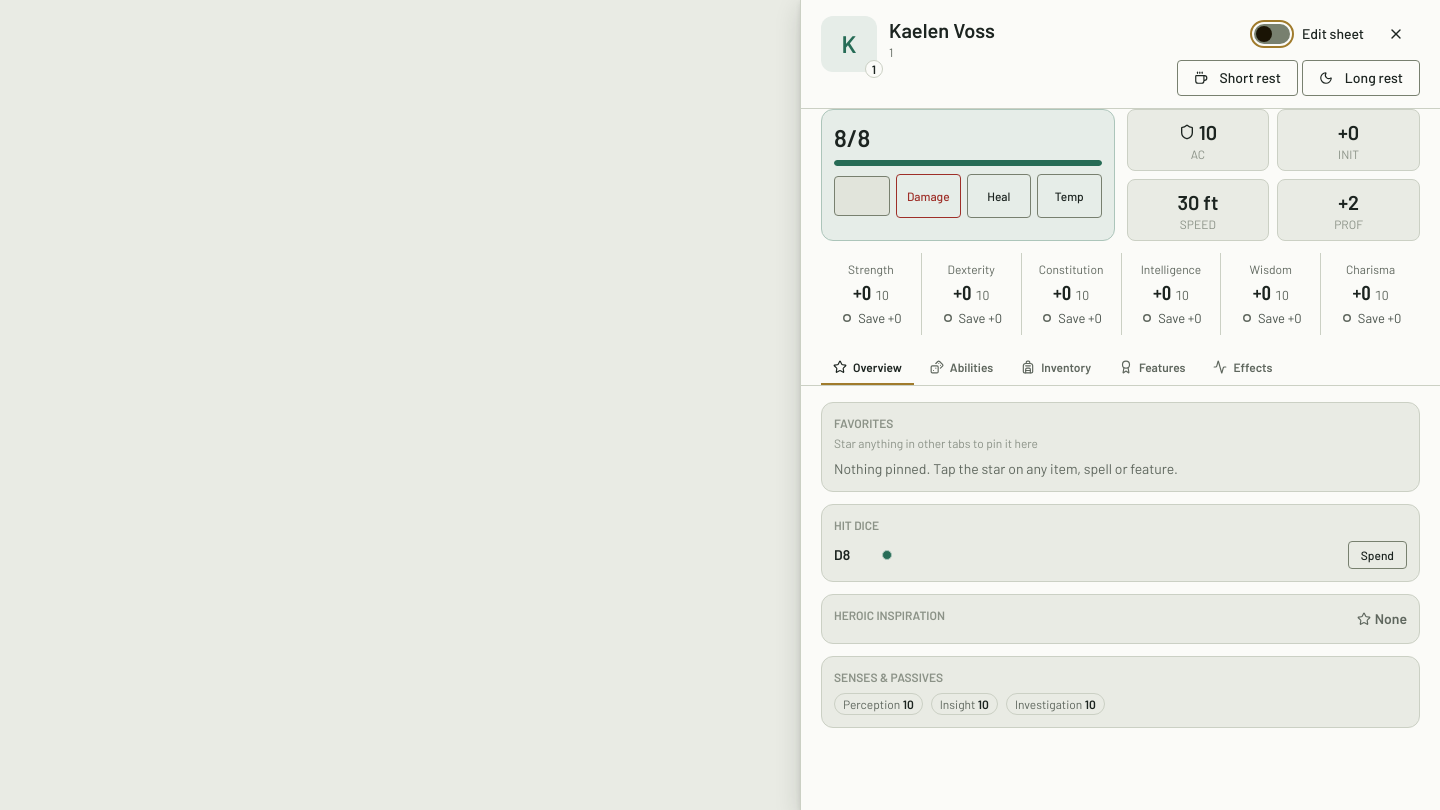
SheetDrawer › renders every tab panel
Press the mouse on the tab "Abilities" at (962, 368), box 918,352 -> 1005,386
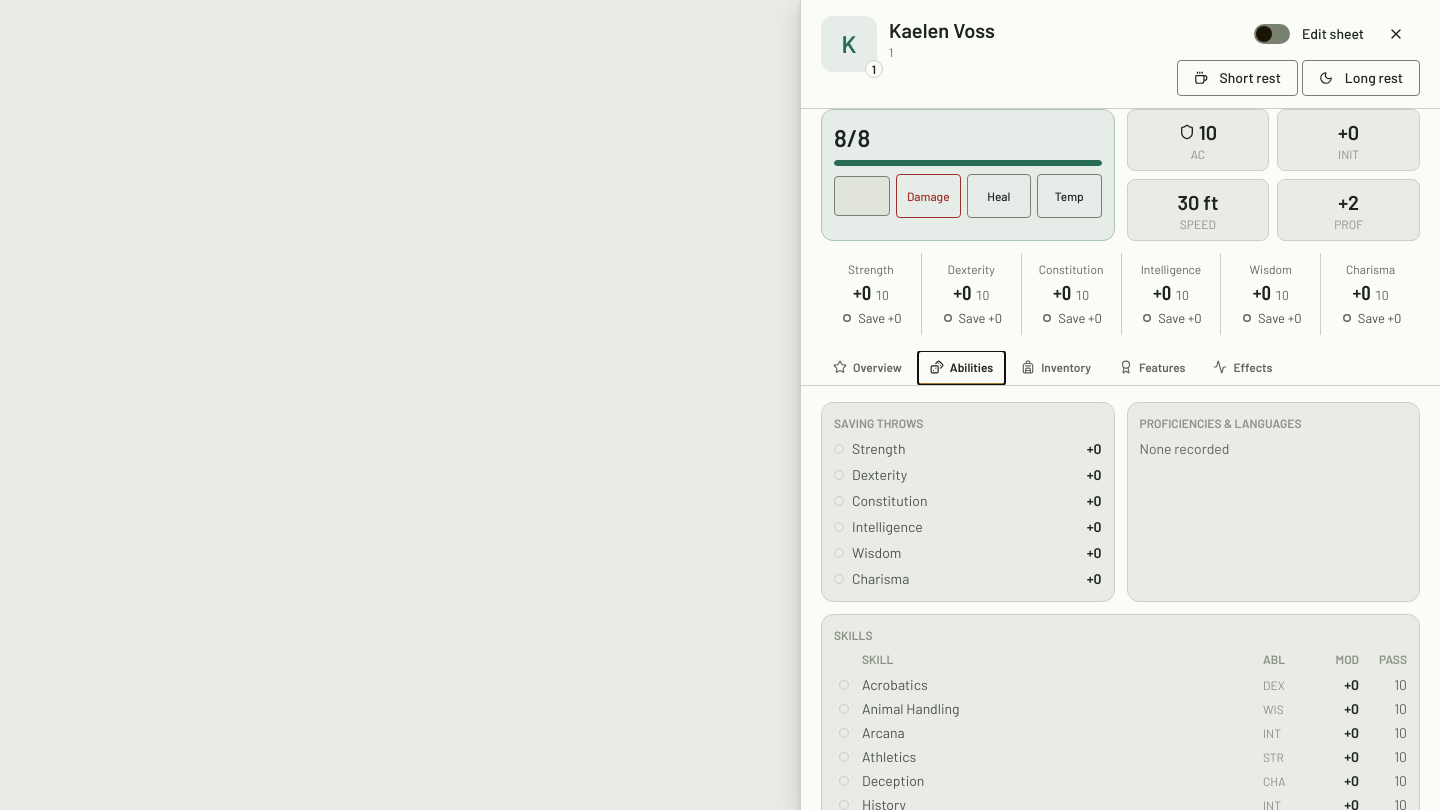
Expected: the panel named "abilities" is not empty, 801,386 -> 1439,809
Press the mouse on the tab "Features" at (1152, 368), box 1107,352 -> 1197,386
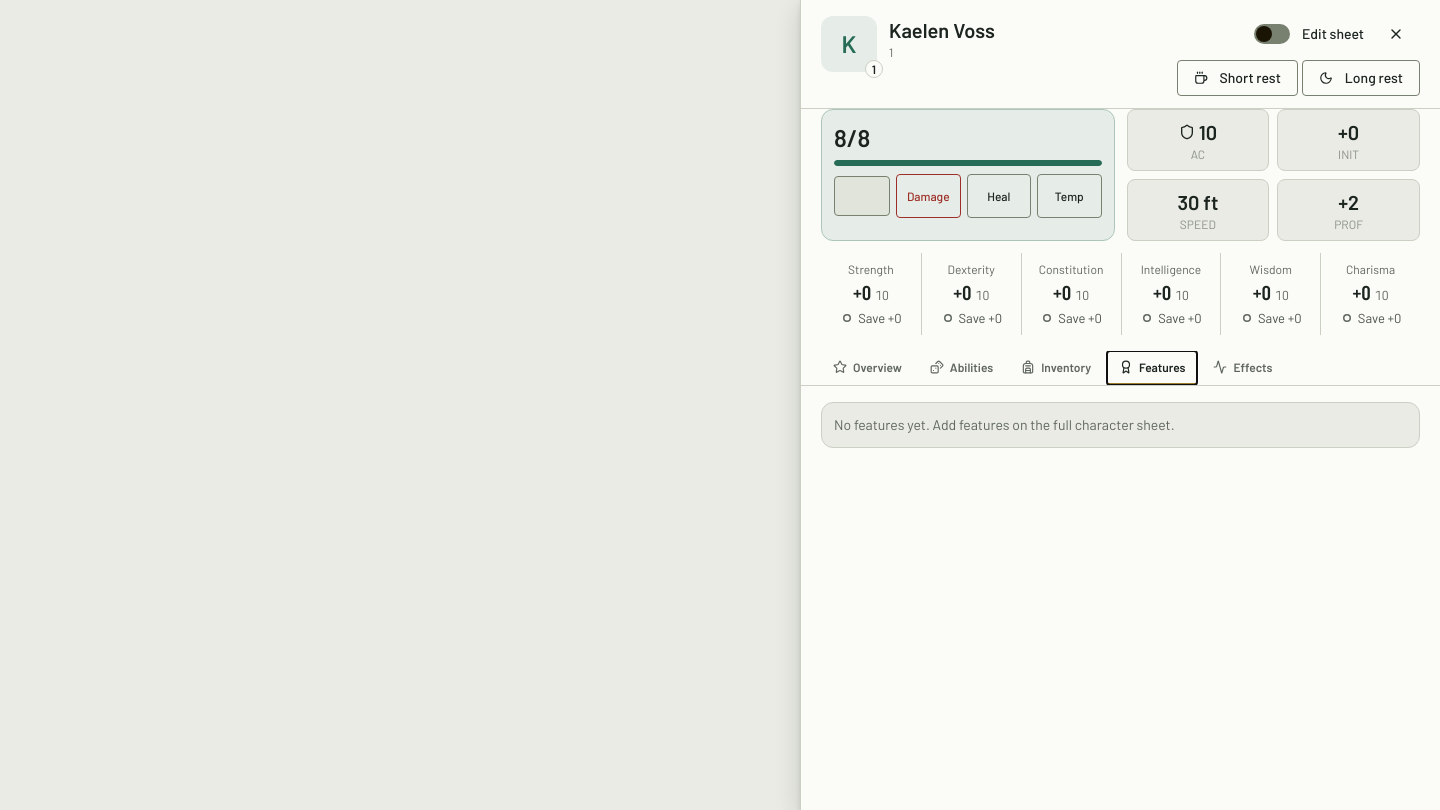
Expected: the panel "No features yet. Add features on the full character sheet." is not empty, 821,402 -> 1420,448
Press the mouse on the tab "Effects" at (1243, 368), box 1202,352 -> 1284,386
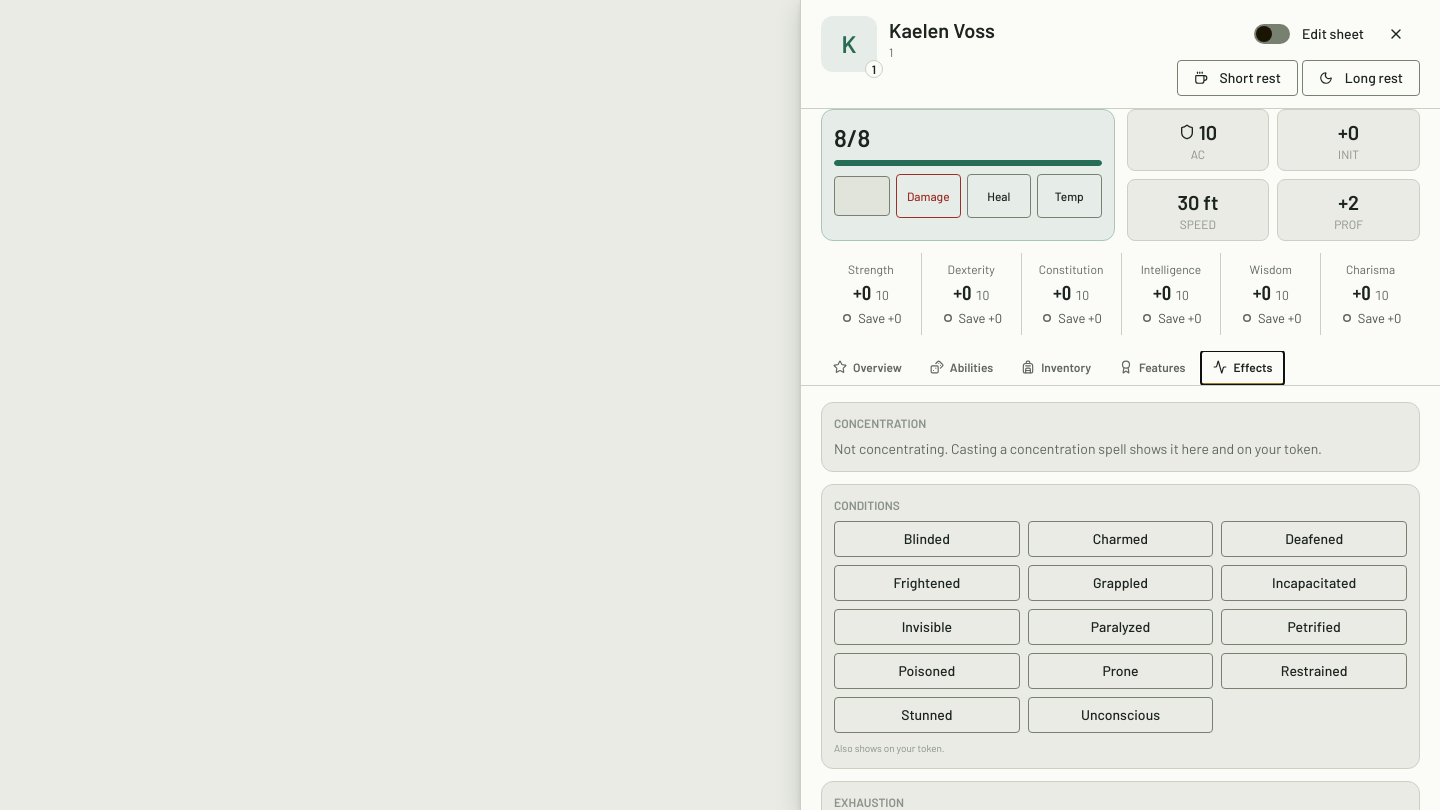
Expected: the panel named "effects" is not empty, 801,386 -> 1439,809
Press the mouse on the tab "Inventory" at (1056, 368), box 1009,352 -> 1103,386
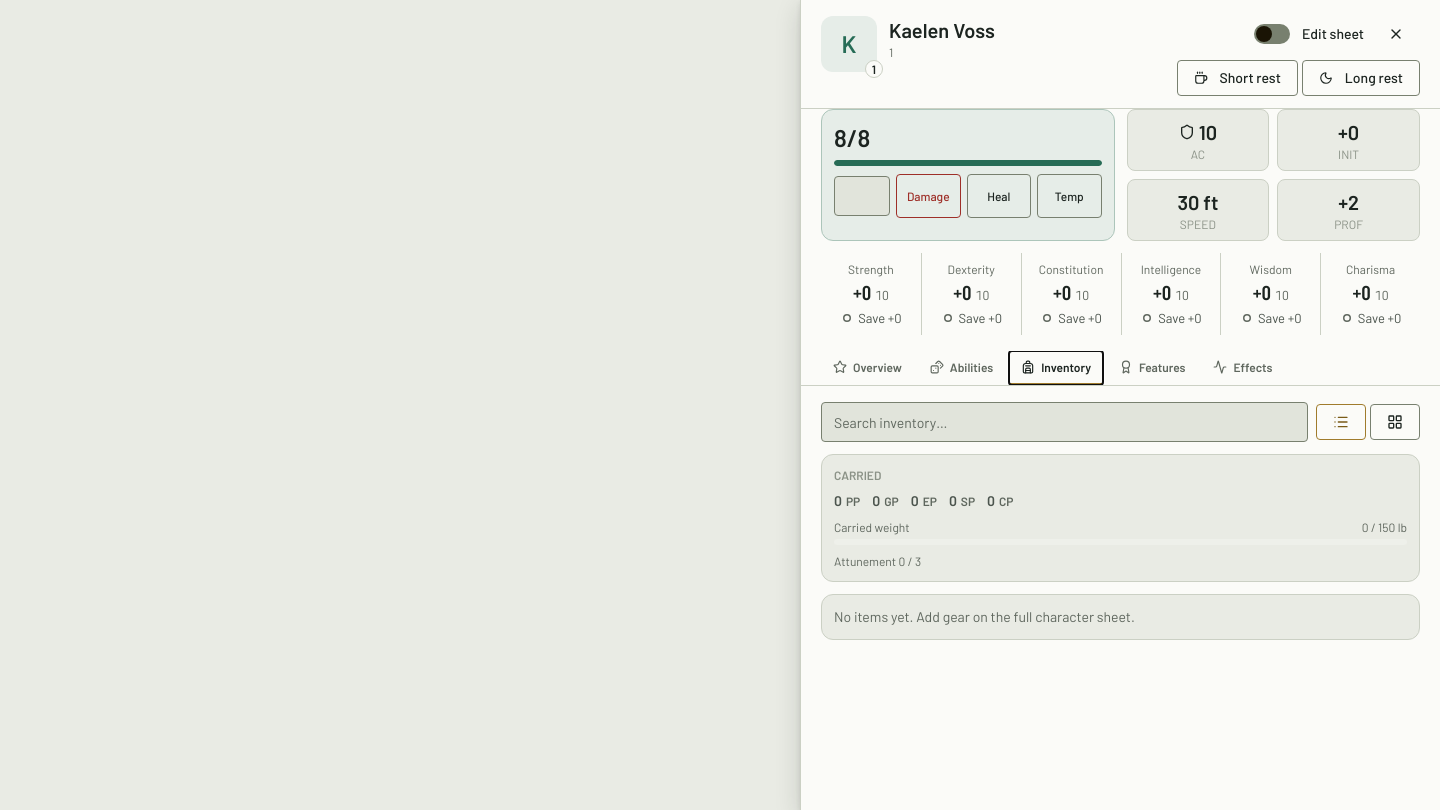
Expected: the panel named "inventory" is not empty, 821,402 -> 1420,640
